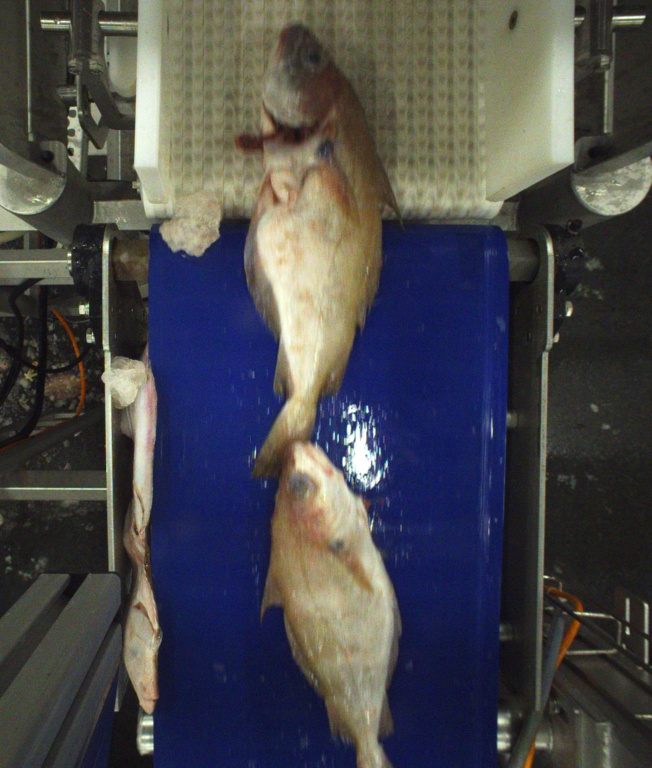BIB: (263, 441, 401, 768)
